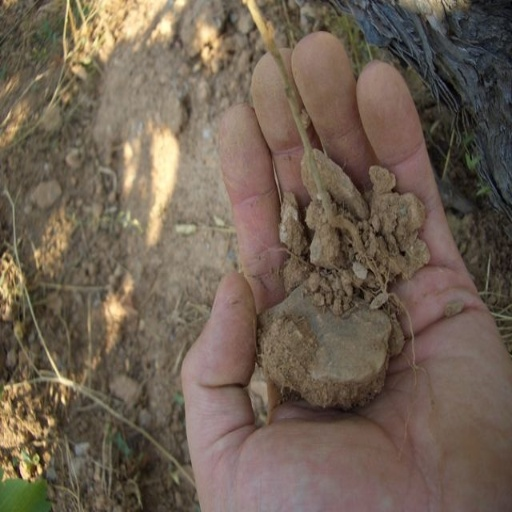hand: (182, 0, 511, 510)
